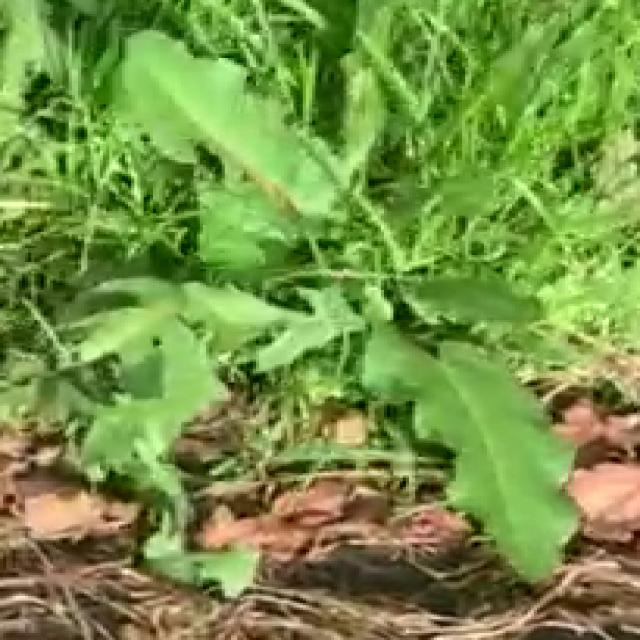organic waste: (47, 23, 640, 594)
